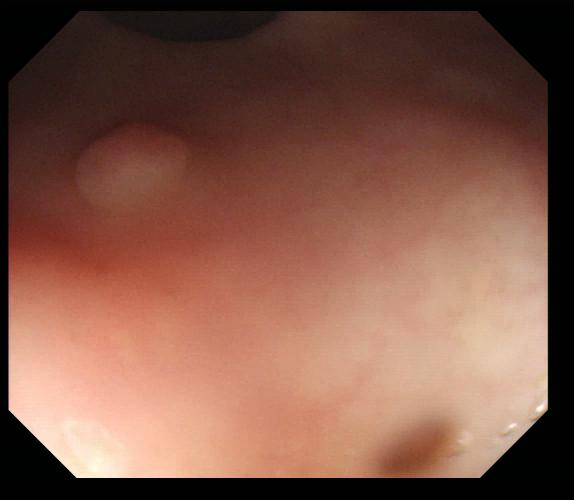polyp: (69, 123, 195, 220)
